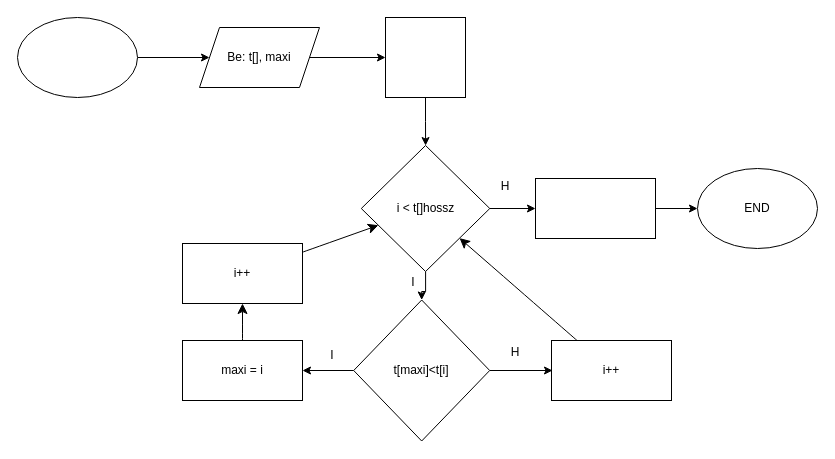
The diagram is 835 pixels wide and 459 high, and some of its shapes have lost their labels. Each missing label, with the centre of its shape:
i = 0: [425,57]
Ki: maxi: [595,208]
START: [77,57]
